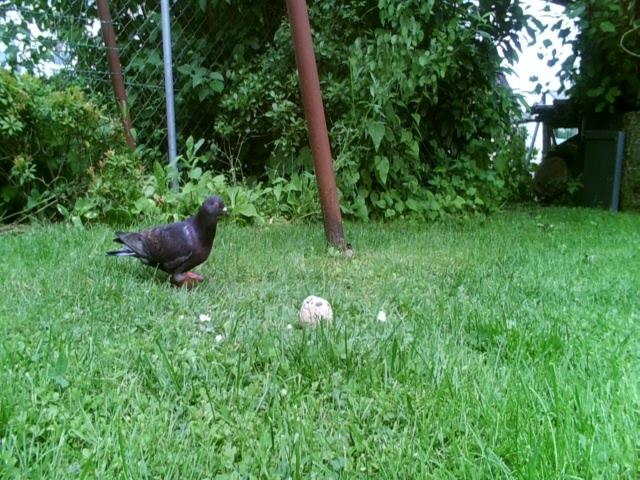Pigeon: (97, 186, 239, 299)
